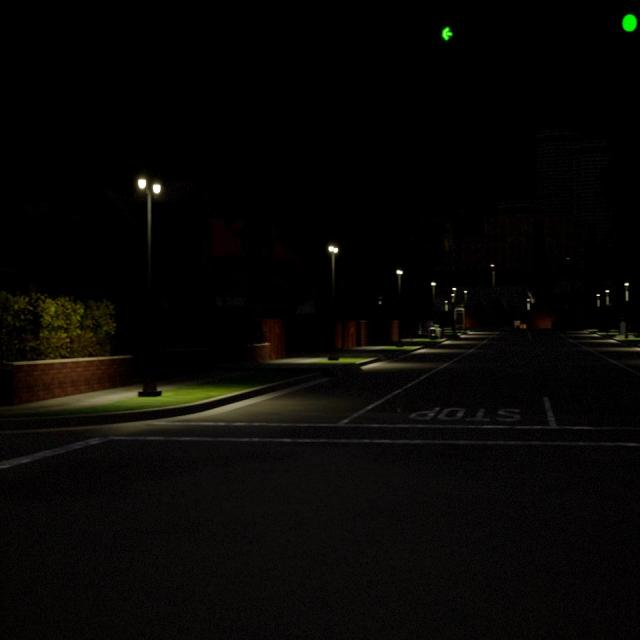traffic_light: (622, 15, 637, 32), (442, 27, 452, 41)
